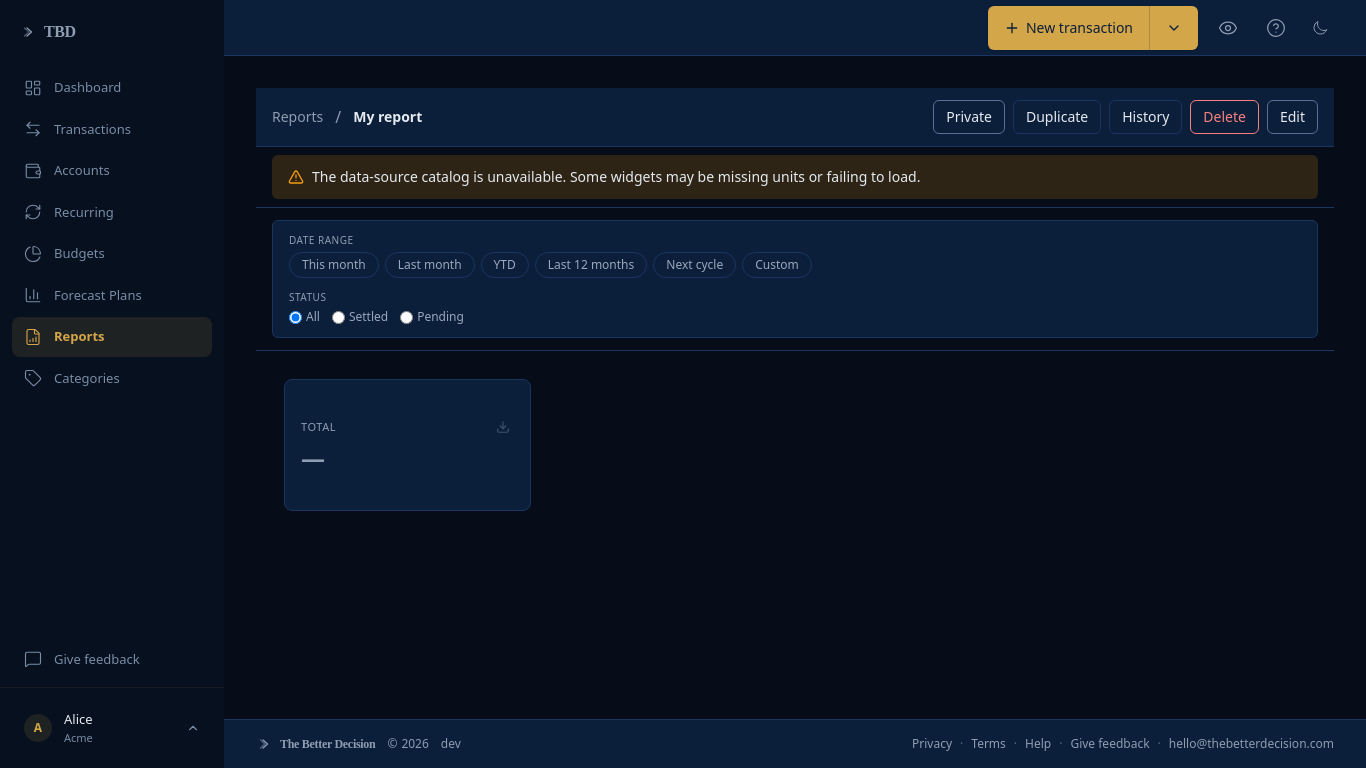
Test: ReportEditorPage › Done returns to view mode and Edit re-enters edit mode (toggle works)
Check: the element with test id "kpi-widget" is shown, box [284,379,531,511]
# Enter edit.
Click the button with test id "report-editor-toggle-edit".
click(1292, 117)  # box [1267,100,1318,134]
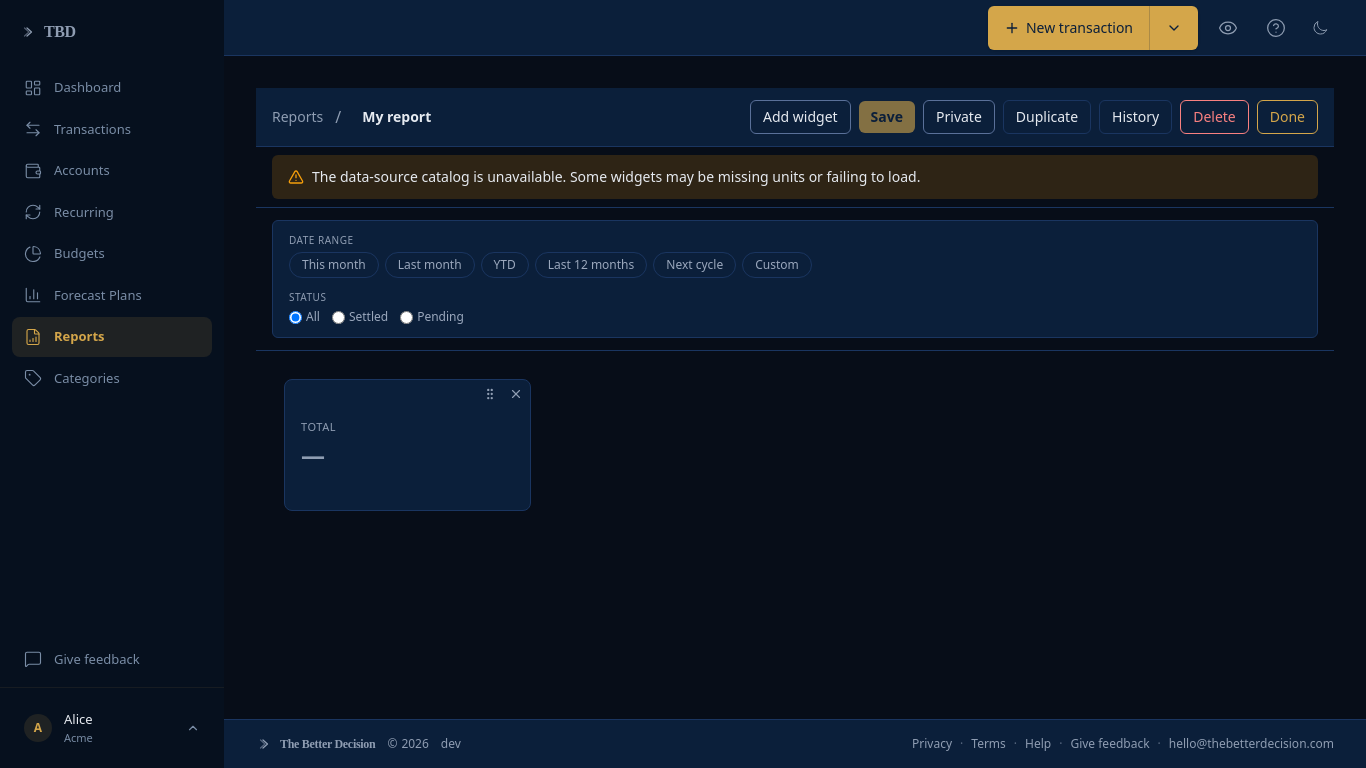
Check: the button with test id "report-editor-add-widget" is shown, box [750,100,851,134]
Check: the button with test id "report-editor-toggle-edit" reads "Done"
# Done → view mode.
Click the button with test id "report-editor-toggle-edit".
click(1287, 117)  # box [1257,100,1318,134]
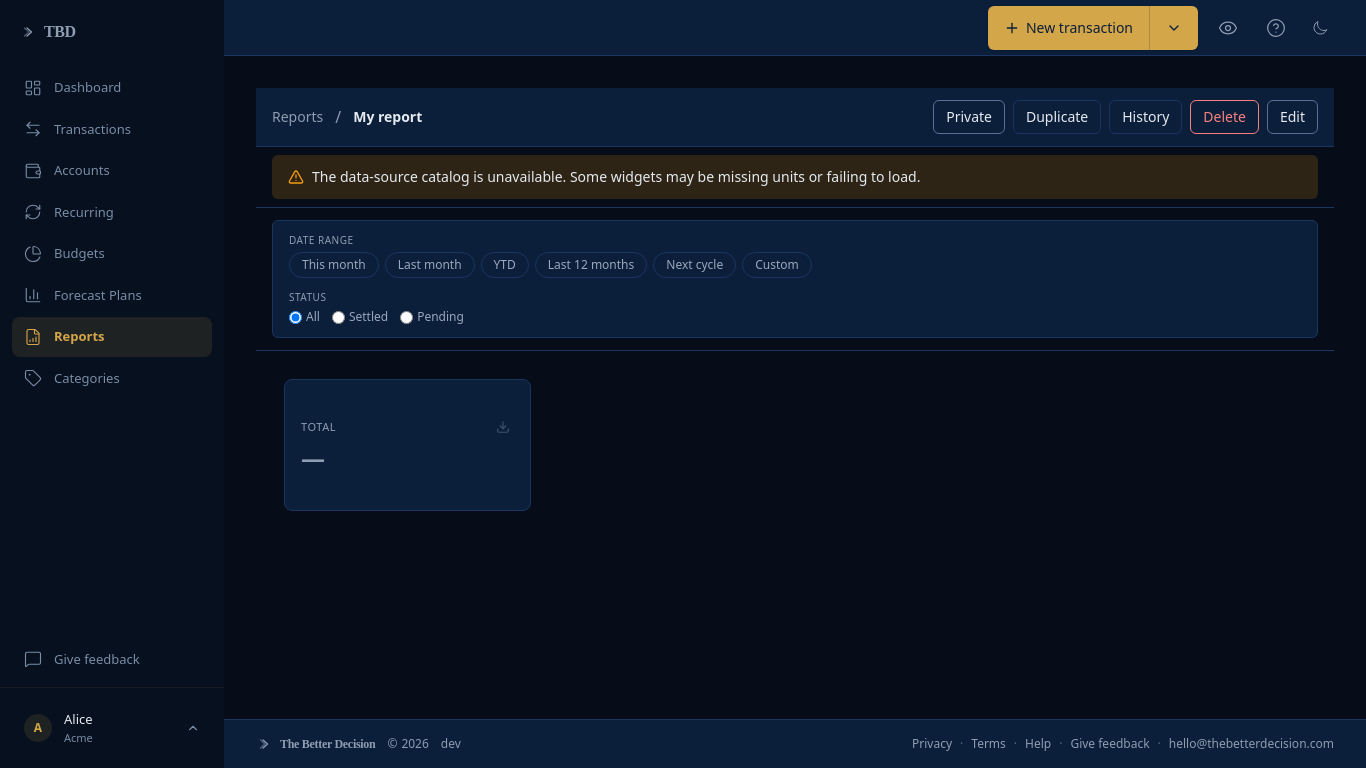
Check: the button with test id "report-editor-add-widget" is gone
Check: the button with test id "report-editor-toggle-edit" reads "Edit"
# Edit → back to edit mode.
Click the button with test id "report-editor-toggle-edit".
click(1292, 117)  # box [1267,100,1318,134]
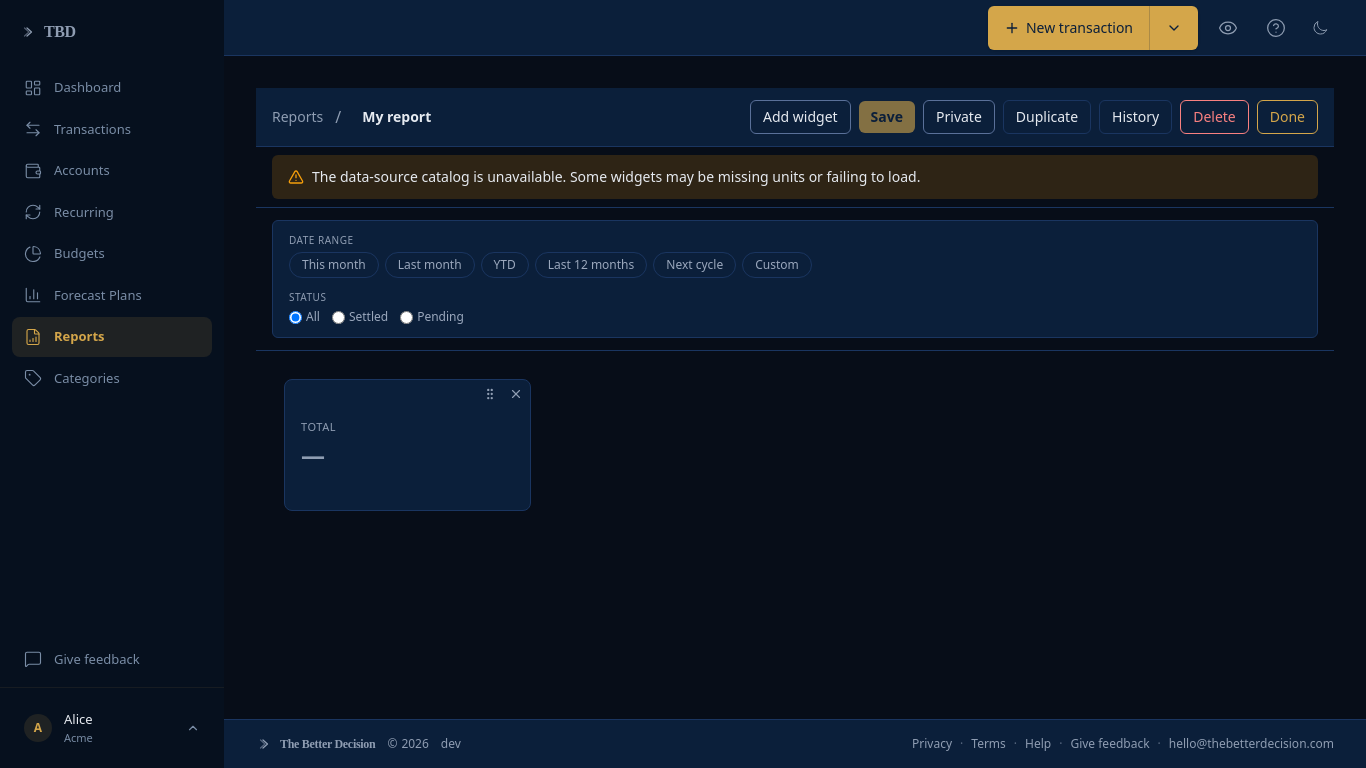
Check: the button with test id "report-editor-add-widget" is shown, box [750,100,851,134]
